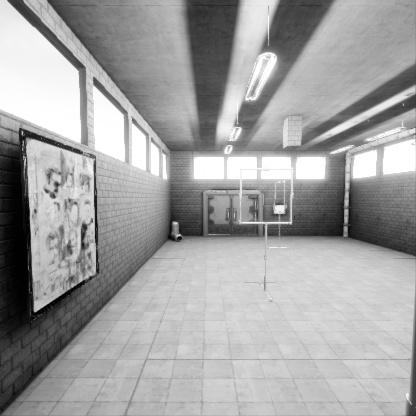gate: (240, 194, 295, 249), (274, 204, 285, 236)
